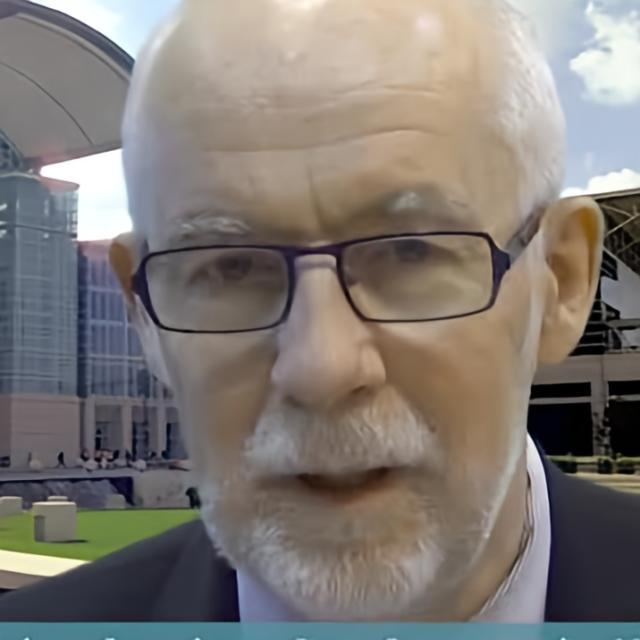neutral: (129, 69, 544, 616)
